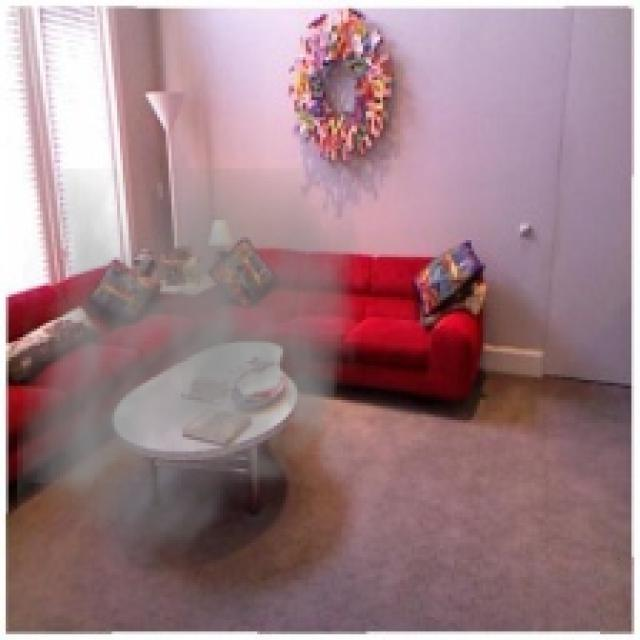Smoke: (17, 168, 360, 574)
